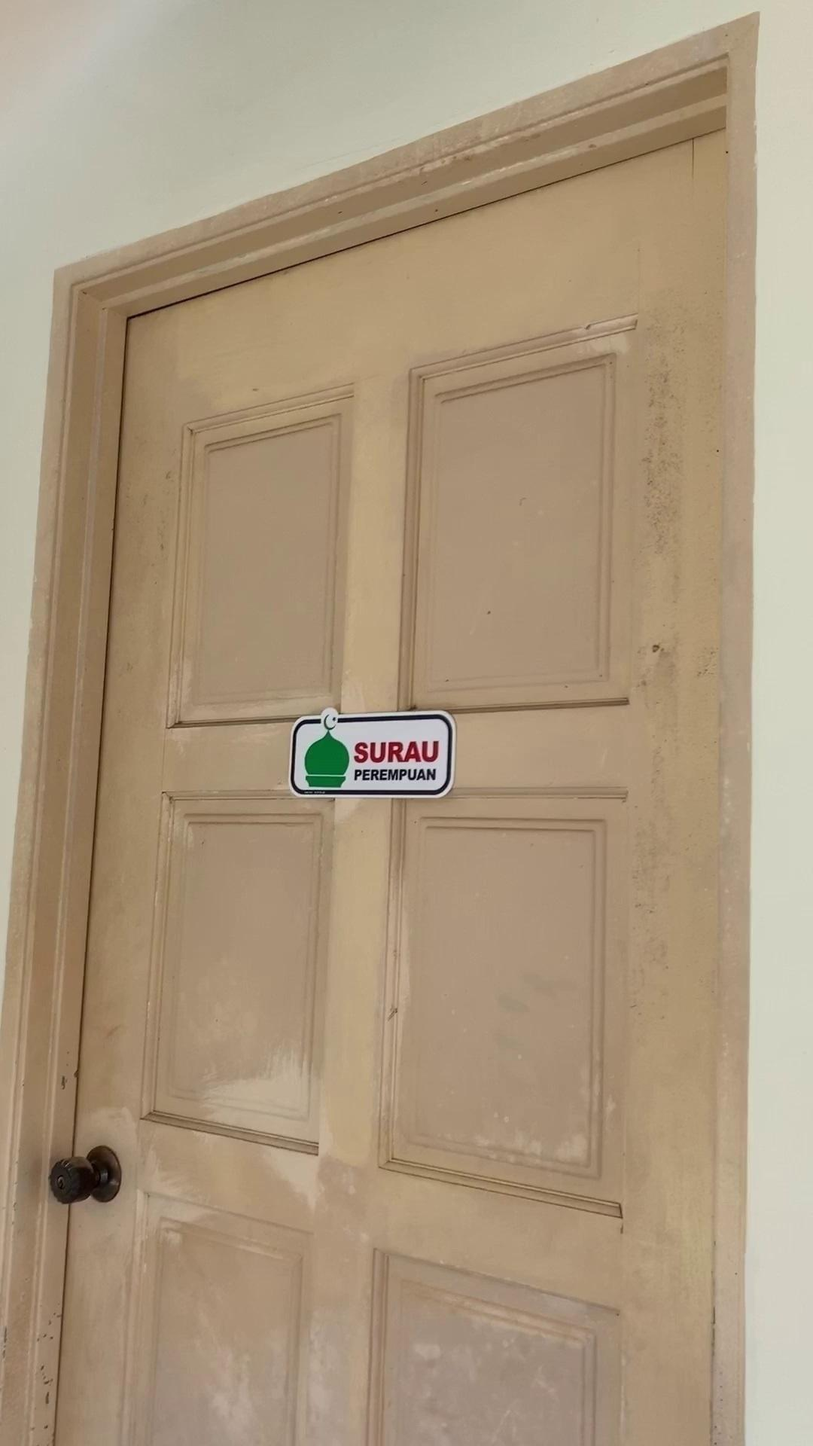door: (33, 21, 763, 1446)
